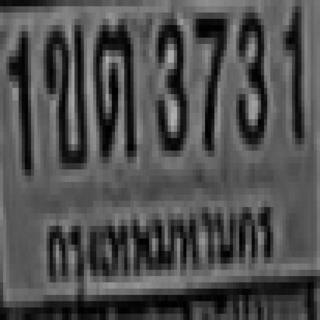A02: (40, 19, 84, 163)
A21: (93, 19, 134, 157)
N01: (6, 25, 28, 169), (283, 0, 301, 138)
N03: (234, 6, 266, 144), (155, 12, 186, 150)
N07: (193, 9, 227, 148)
P04: (36, 194, 284, 300)
